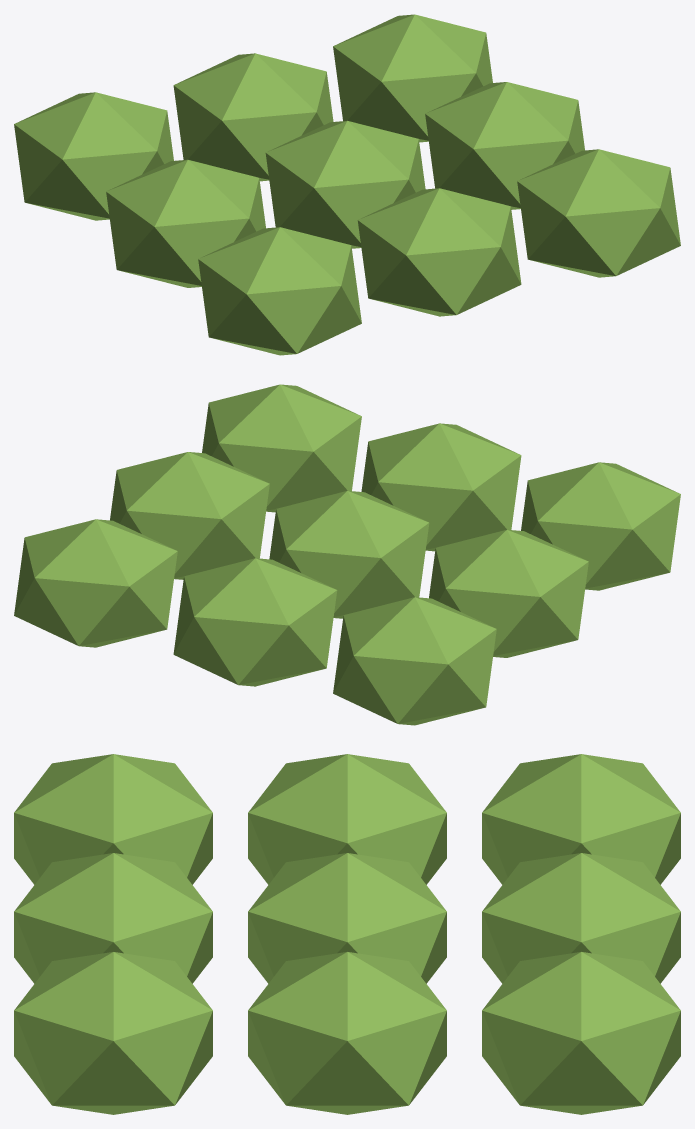
File: crop_cabbage.obj
The picture shows the model from 3 angles, top to bottom: view 1: azimuth 30°, elevation 25°; view 2: azimuth 150°, elevation 25°; view 3: azimuth 270°, elevation 25°; orthographic projection. The views are drawn at different scales.
Parts seen in each view (by area): view 1: part_8, part_6, part_7, part_0, part_3, part_5, part_4, part_1, part_2; view 2: part_2, part_0, part_1, part_6, part_3, part_5, part_4, part_7, part_8; view 3: part_5, part_2, part_8, part_3, part_0, part_4, part_6, part_1, part_7.
Boxes of the visible parts, x1,y1,x2,y2 form: part_8: (517,149,680,277); part_6: (198,227,361,355); part_7: (357,188,521,316); part_0: (14,92,173,220); part_3: (106,159,265,287); part_5: (425,82,584,209); part_4: (265,120,425,248); part_1: (173,53,333,181); part_2: (333,14,492,142); part_2: (14,519,177,647); part_0: (333,597,496,725); part_1: (173,558,337,686); part_6: (521,462,680,590); part_3: (429,529,588,657); part_5: (110,452,269,579); part_4: (269,490,429,618); part_7: (361,423,521,551); part_8: (202,384,361,512); part_5: (248,952,446,1114); part_2: (482,952,680,1114); part_8: (14,952,212,1114); part_3: (248,754,446,884); part_0: (482,754,680,884); part_4: (248,853,446,983); part_6: (14,754,212,884); part_1: (482,853,680,983); part_7: (14,853,212,983).
Bounding box in the file's own units: 0.7526 × 0.2 × 0.7412.
